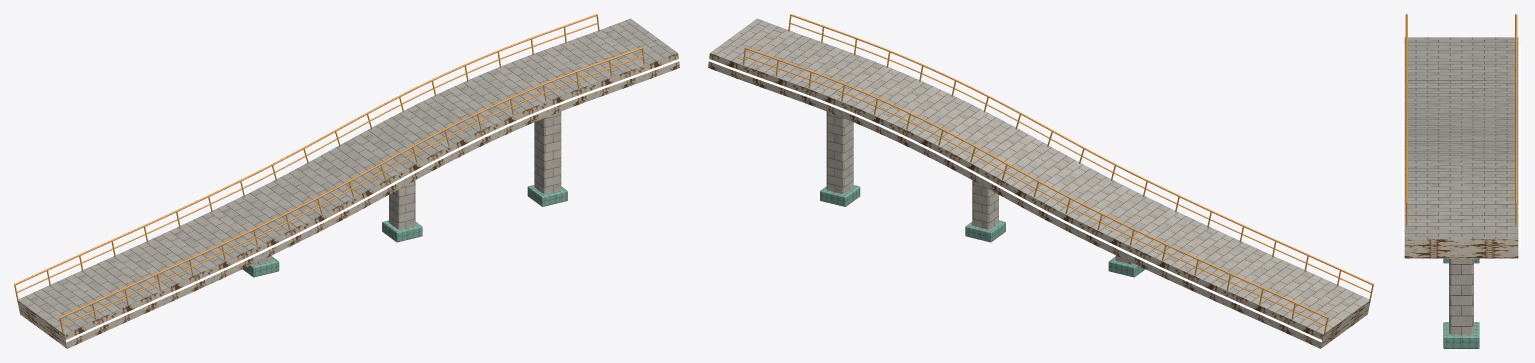
The model's file is Mock_RampIn.glb.
3 renders of one model, left to right at view 1: azimuth 30°, elevation 25°; view 2: azimuth 150°, elevation 25°; view 3: azimuth 270°, elevation 25°, orthographic. The views are drawn at different scales.
Parts seen in each view (by area): view 1: Mock_RampIn_Deck, Mock_RampIn_Neon-1, Mock_RampIn_SupBase27; view 2: Mock_RampIn_Deck, Mock_RampIn_Neon-1, Mock_RampIn_SupBase27; view 3: Mock_RampIn_Deck, Mock_RampIn_Neon-1, Mock_RampIn_SupBase27.
Part boxes in pixels (x1,y1,x2,y2): Mock_RampIn_Deck: [14, 14, 679, 348]; Mock_RampIn_Neon-1: [17, 59, 679, 342]; Mock_RampIn_SupBase27: [242, 185, 567, 277]; Mock_RampIn_Deck: [708, 14, 1373, 348]; Mock_RampIn_Neon-1: [708, 59, 1370, 342]; Mock_RampIn_SupBase27: [820, 185, 1145, 277]; Mock_RampIn_Deck: [1404, 14, 1518, 334]; Mock_RampIn_Neon-1: [1402, 45, 1520, 249]; Mock_RampIn_SupBase27: [1443, 258, 1479, 348].
Bounding box in the file's own units: 37.85 × 9.38 × 5.2.
5 materials, 3 textured.
